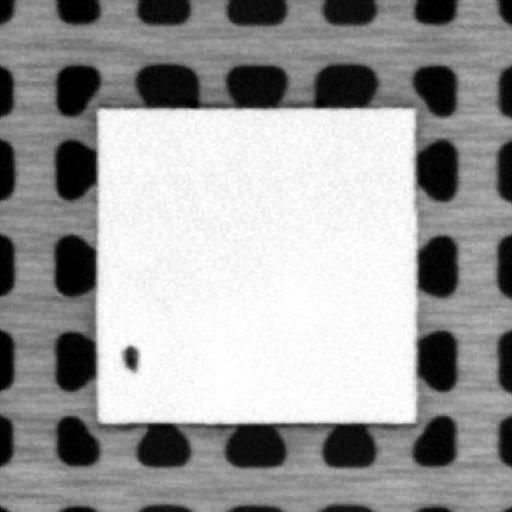DIE_INK: (118, 342, 142, 369)
